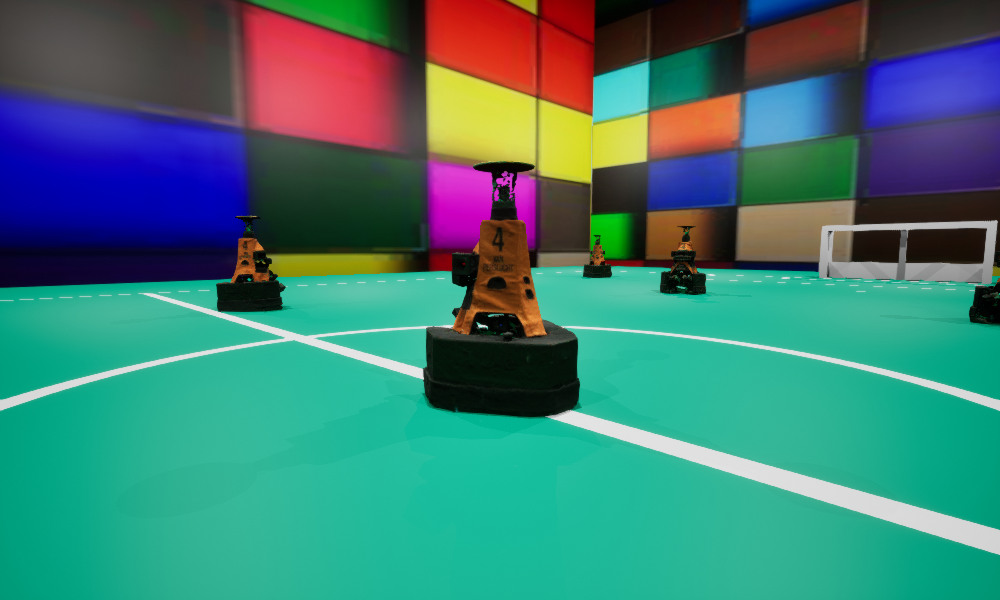o: (423, 161, 579, 416), (216, 216, 285, 311), (660, 226, 705, 293), (969, 251, 999, 323), (583, 235, 611, 277)
